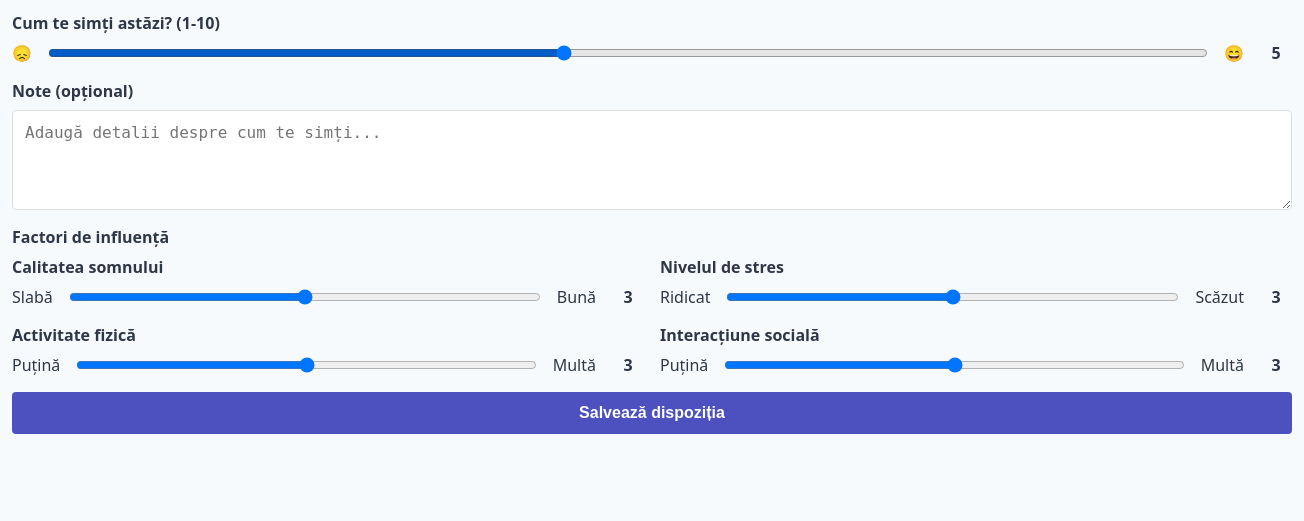
Test: MoodTracker Component Tests › should show loading state while submitting
// Trimite formularul
Click the button "Salvează dispoziția".
click(652, 413)  # box [12, 392, 1292, 434]
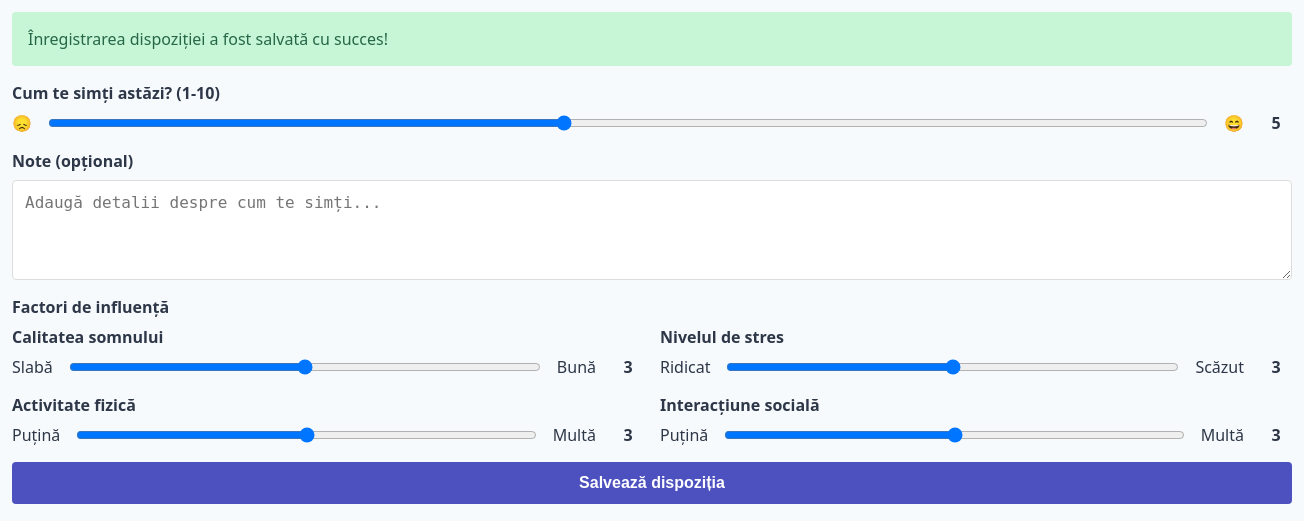
Expected: the button "Se salvează..." is shown, [12, 462, 1292, 504]
Expected: the text "Înregistrarea dispoziției a fost salvată cu succes!" is shown, [12, 12, 1292, 66]
